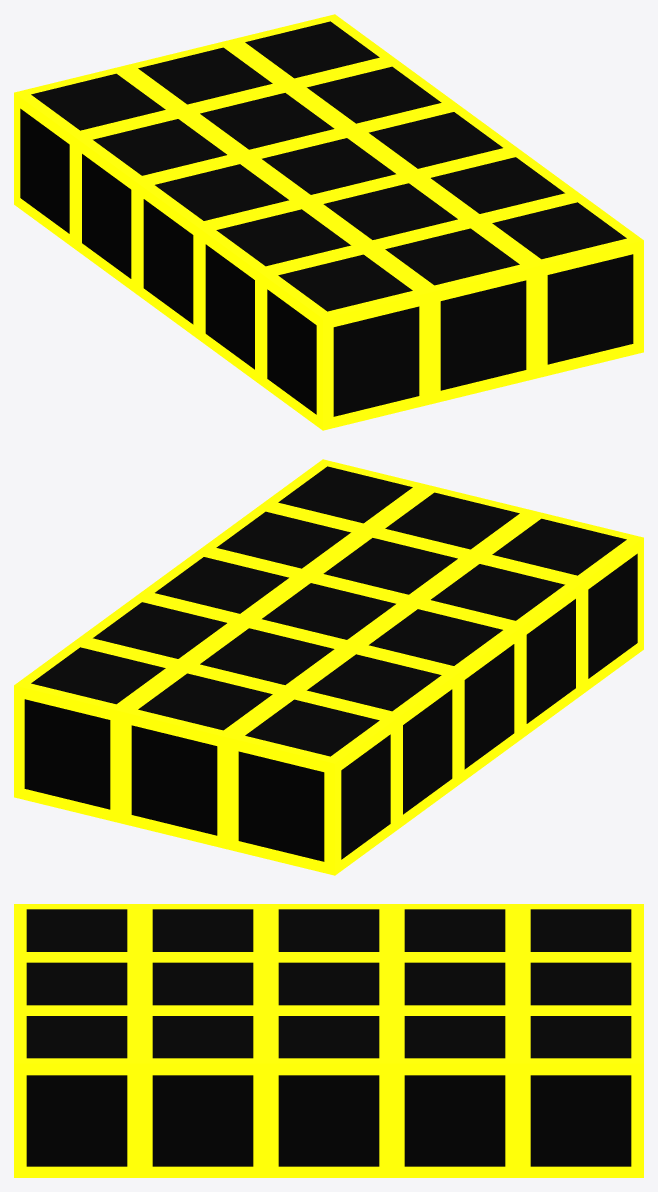
File: WallMoveInfo.fbx
The picture shows the model from 3 angles, top to bottom: view 1: azimuth 30°, elevation 25°; view 2: azimuth 150°, elevation 25°; view 3: azimuth 270°, elevation 25°; orthographic projection.
Visible parts, largest first — view 1: Cube; view 2: Cube; view 3: Cube.
Boxes of the visible parts, left/top/right/bottom form: Cube: left=14, top=14, right=643, bottom=430; Cube: left=14, top=459, right=643, bottom=875; Cube: left=14, top=904, right=643, bottom=1177.
Size of the model in its own units: 600 by 200 by 1000.
